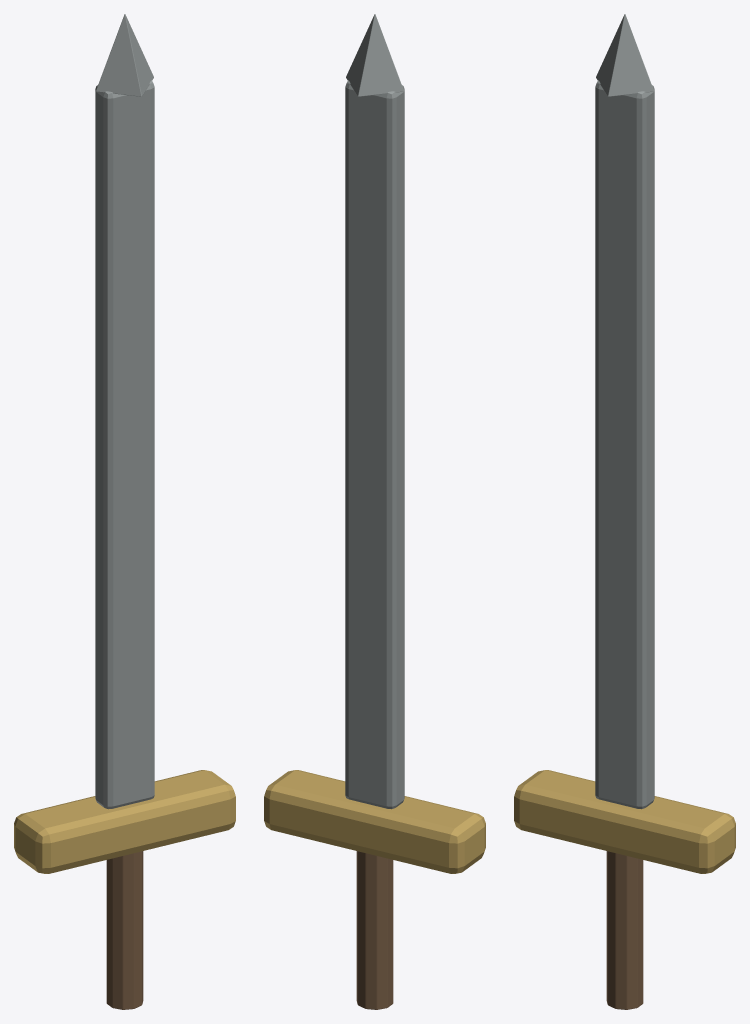
File: dagger.glb
3 views of the same model, side by side, from view 1: azimuth 30°, elevation 25°; view 2: azimuth 150°, elevation 25°; view 3: azimuth 330°, elevation 25° (orthographic).
Visible parts, largest first — view 1: Blade, Guard, Grip, BladeTip; view 2: Blade, Guard, Grip, BladeTip; view 3: Blade, Guard, Grip, BladeTip.
Part boxes in pixels (bbox=[...]): Blade: bbox=[95, 80, 154, 809]; Guard: bbox=[14, 770, 235, 873]; Grip: bbox=[106, 851, 143, 1009]; BladeTip: bbox=[96, 14, 153, 96]; Blade: bbox=[345, 80, 404, 809]; Guard: bbox=[264, 770, 485, 873]; Grip: bbox=[356, 851, 393, 1009]; BladeTip: bbox=[346, 14, 403, 96]; Blade: bbox=[595, 80, 654, 809]; Guard: bbox=[514, 770, 735, 873]; Grip: bbox=[606, 851, 643, 1009]; BladeTip: bbox=[596, 14, 653, 96].
Size of the model in its own units: 11 by 52.07 by 3.21.
